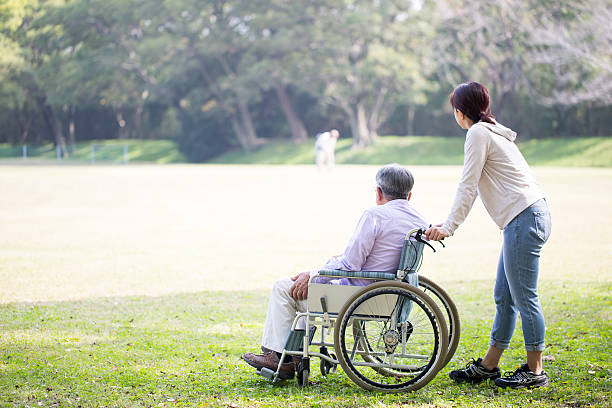wheel_chair: (234, 216, 468, 401)
